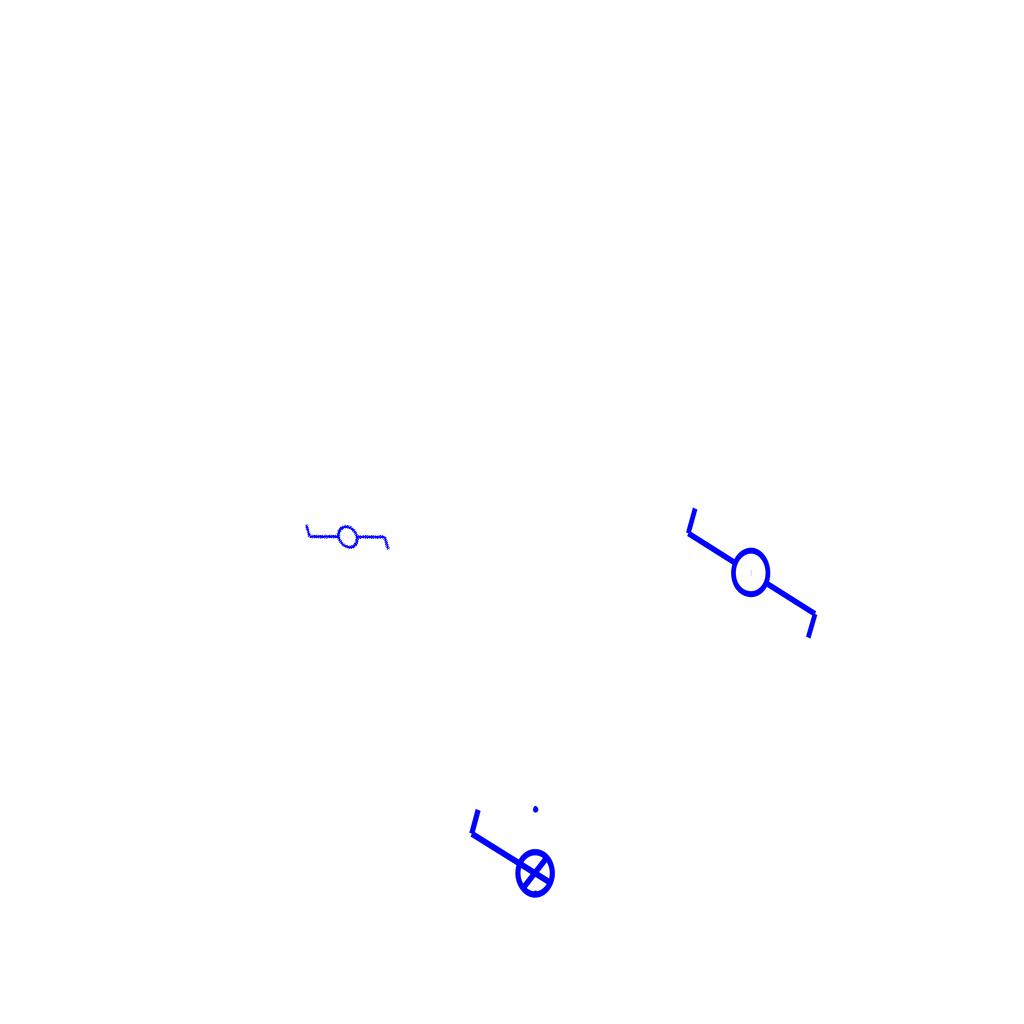Ausschalter_beleuchtet: (461, 800, 557, 912)
Wechselschalter: (681, 486, 825, 643), (297, 488, 401, 594)
